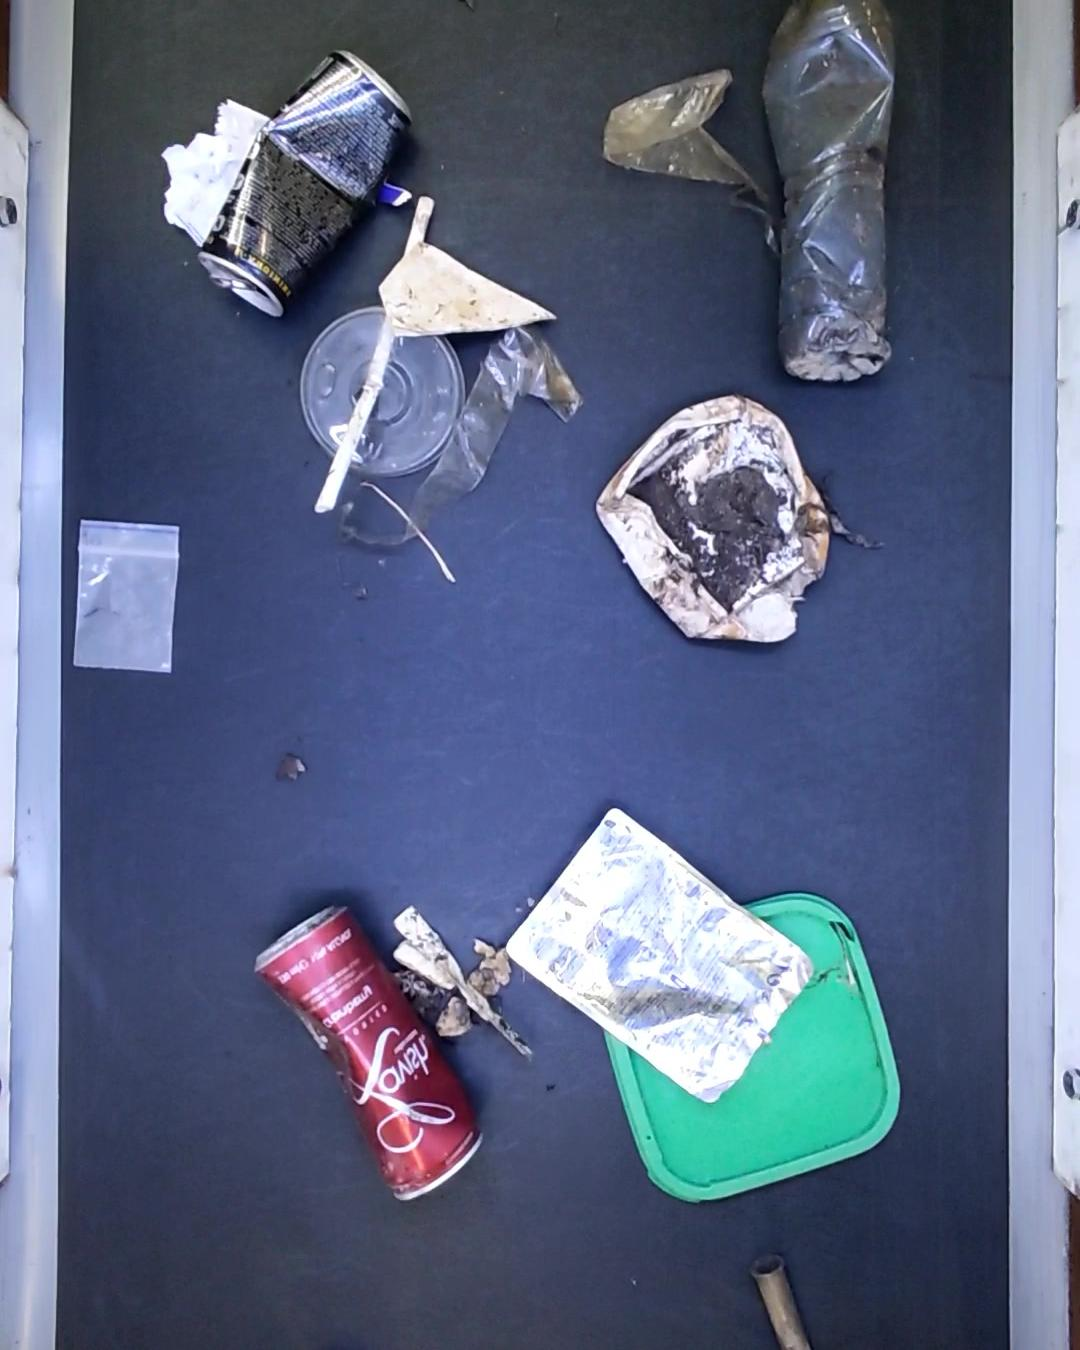Drankblikjes: (194, 47, 415, 318)
Drankflessen - 1-2 liter: (764, 0, 899, 384)
Plastic folies of stukken daarvan 2.5- 50 cm: (348, 321, 583, 590), (595, 64, 763, 192), (158, 99, 274, 248)
